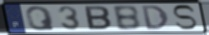3: (57, 5, 82, 32)
B: (112, 4, 143, 31), (84, 5, 114, 31)
D: (140, 4, 171, 31)
Q: (24, 5, 57, 32)
S: (171, 4, 199, 31)
